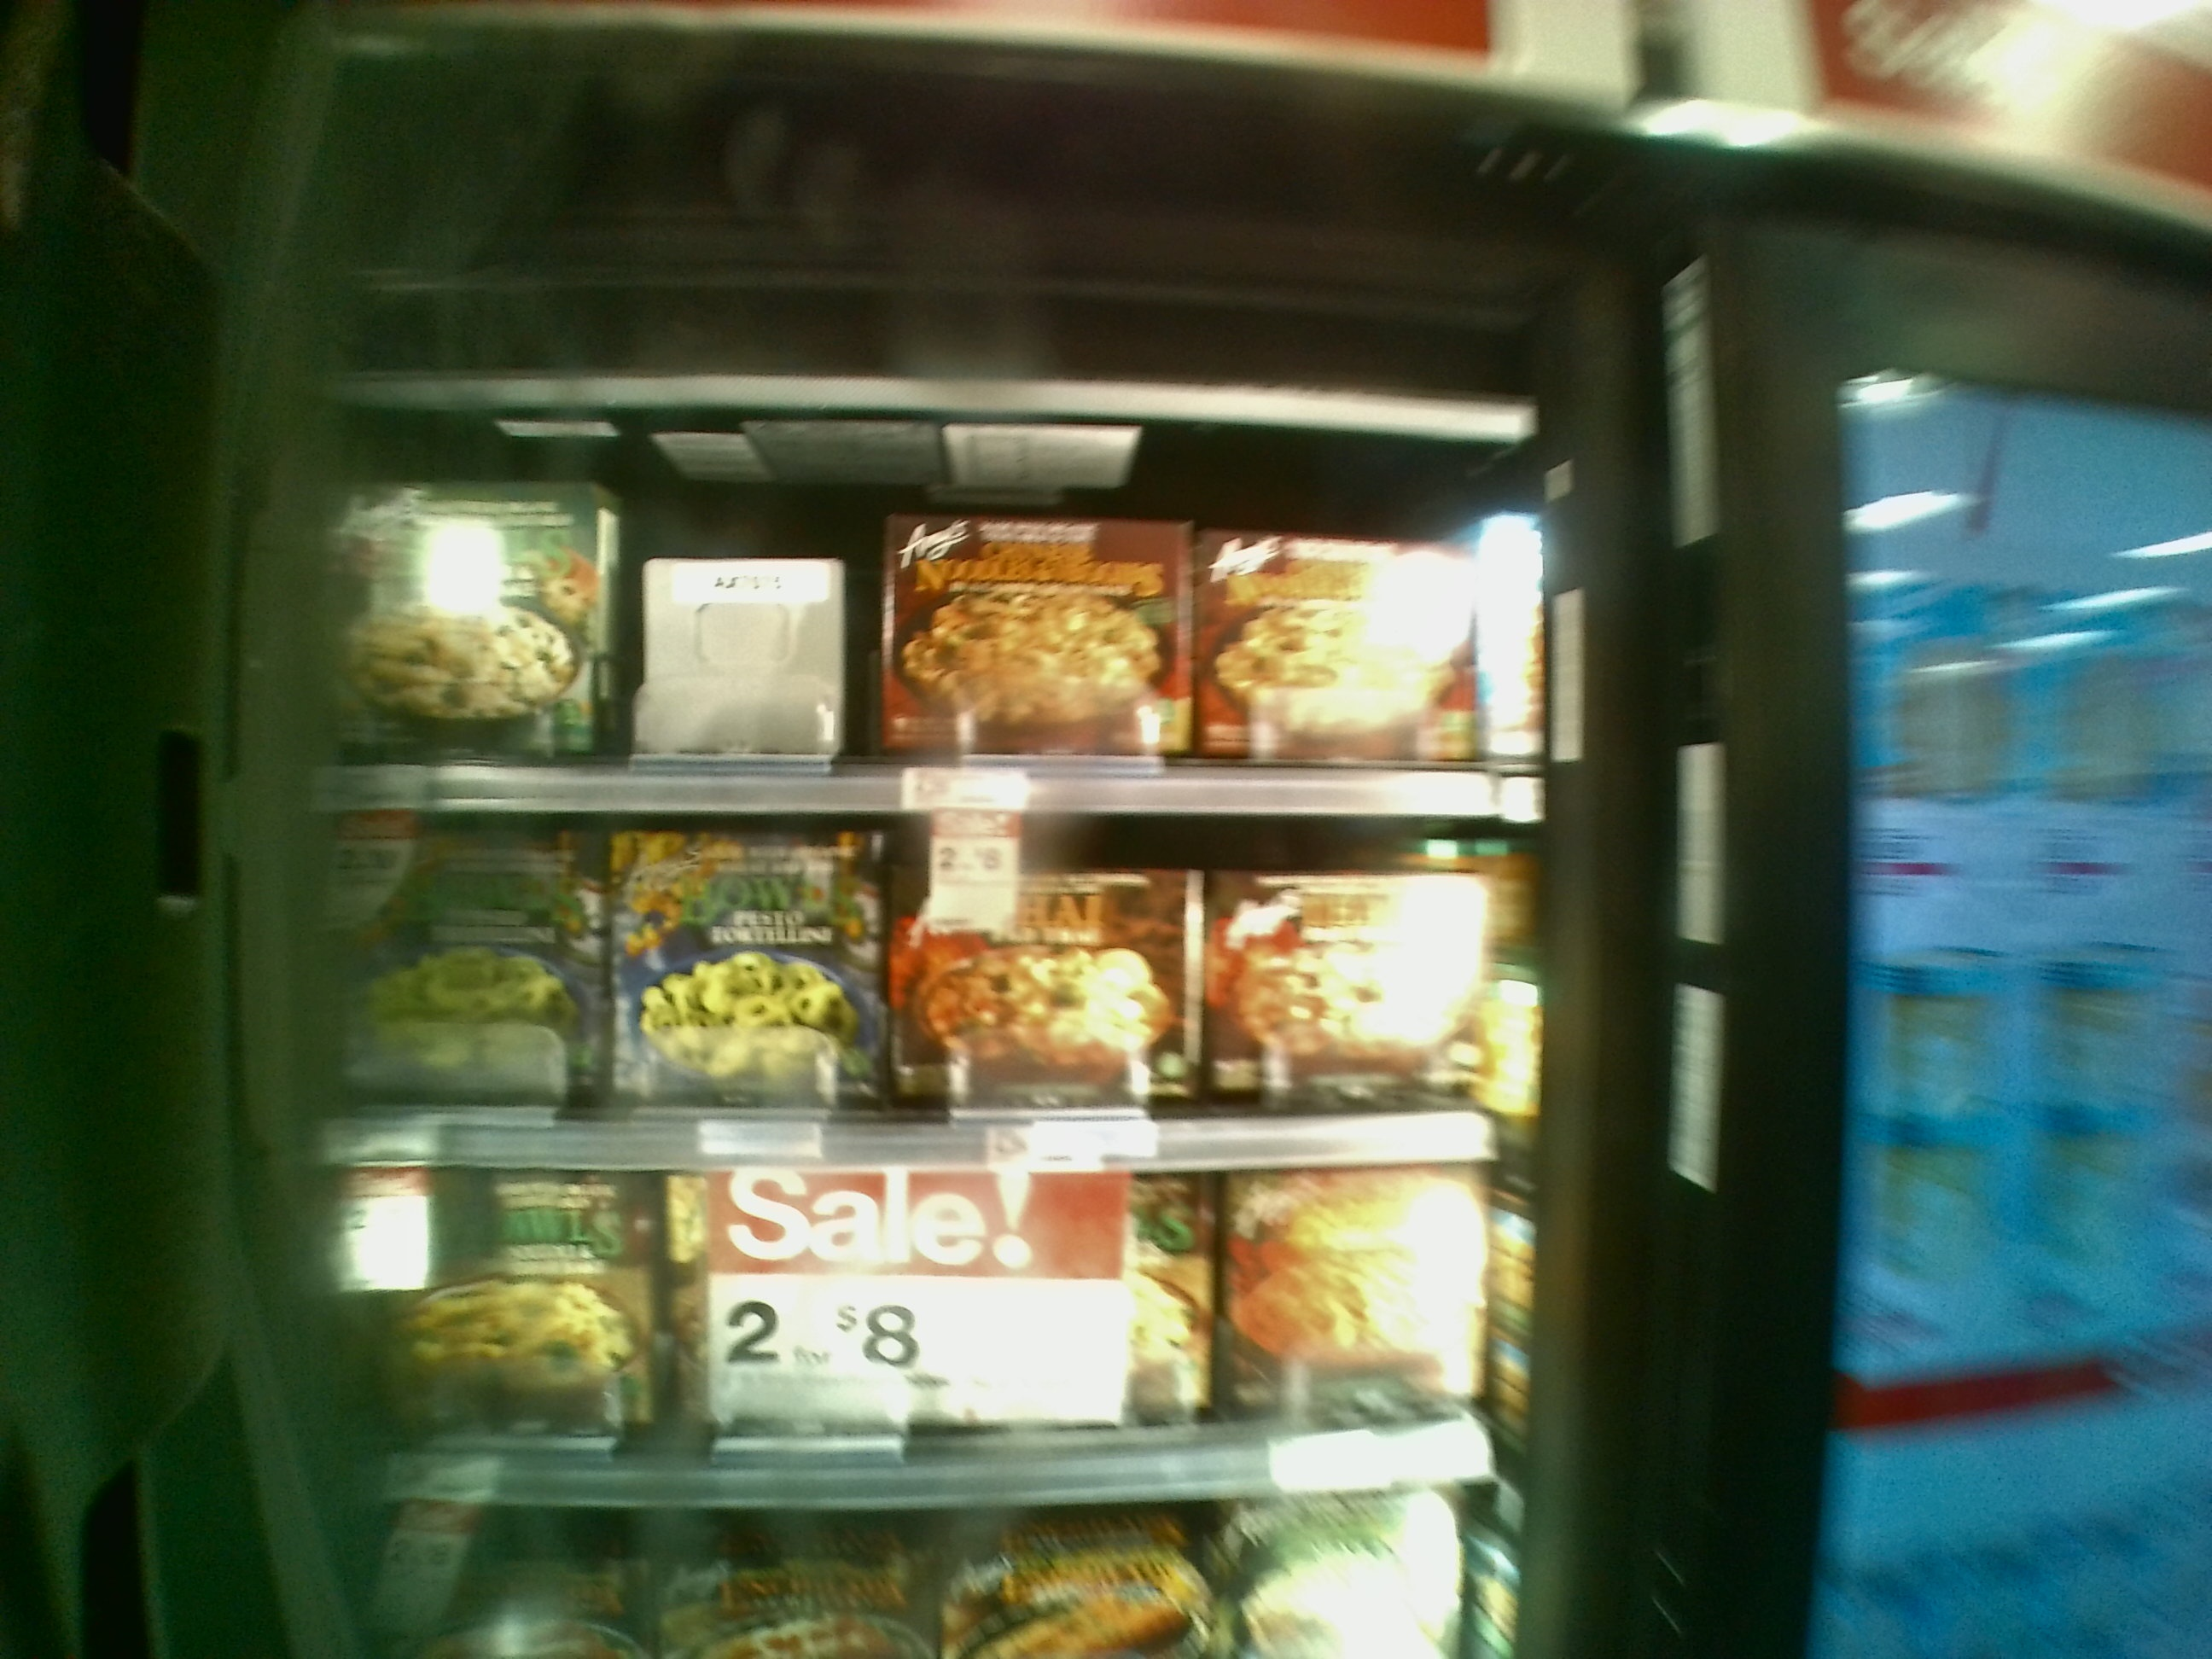shelf: (322, 403, 1515, 823), (312, 816, 1508, 1169), (324, 1161, 1503, 1502)
